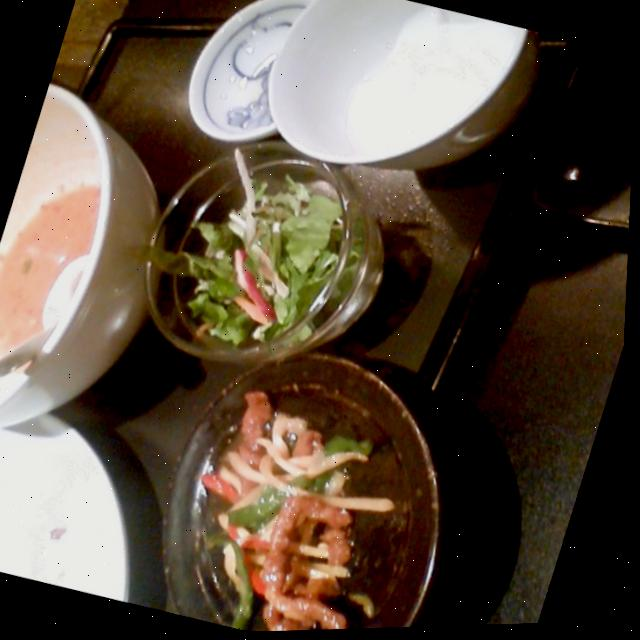牛肉菜式: (166, 368, 429, 636)
蔬菜料理: (138, 130, 391, 394)
